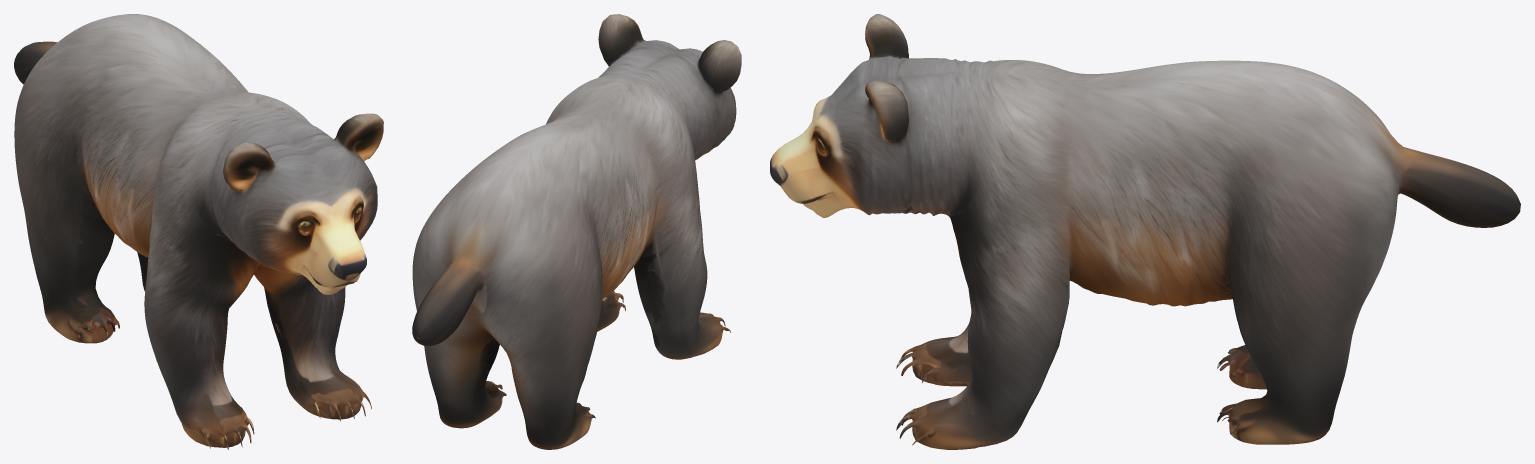
The model's file is andeanBear.glb.
3 views of the same model, side by side, from view 1: azimuth 30°, elevation 25°; view 2: azimuth 150°, elevation 25°; view 3: azimuth 270°, elevation 25° (orthographic). The views are drawn at different scales.
Visible parts, largest first — view 1: model; view 2: model; view 3: model.
Part boxes in pixels (<box>): model: <box>14,14,383,449</box>; model: <box>412,14,741,449</box>; model: <box>770,14,1520,449</box>.
Size of the model in its own units: 0.6159 by 0.9947 by 1.9.
1 material, 1 textured.
